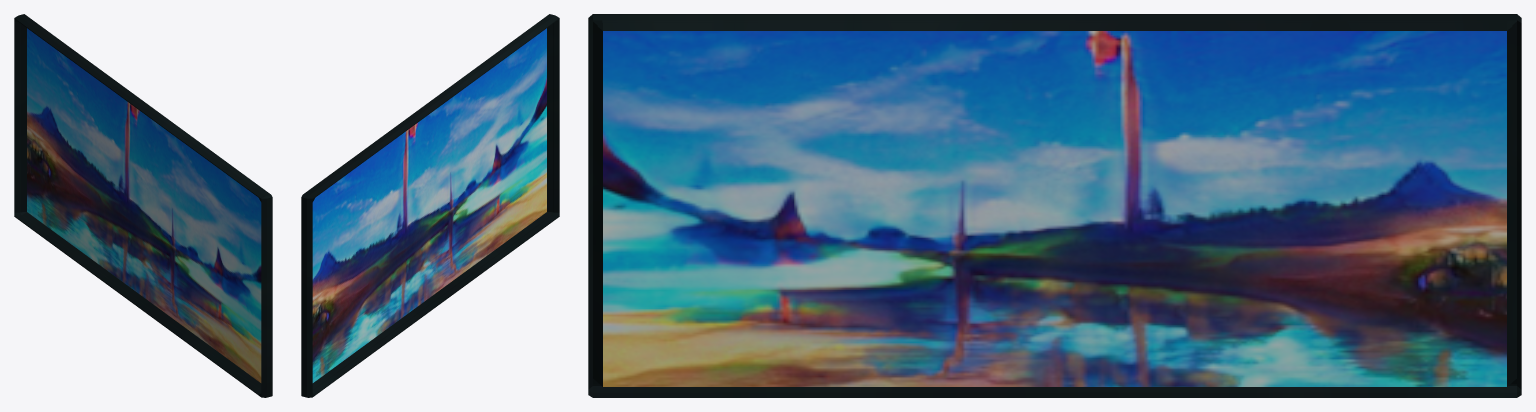
File: landscape-painting.gltf
3 views of the same model, side by side, from view 1: azimuth 30°, elevation 25°; view 2: azimuth 150°, elevation 25°; view 3: azimuth 270°, elevation 25° (orthographic). The views are drawn at different scales.
Parts seen in each view (by area): view 1: warhol picture.002; view 2: warhol picture.002; view 3: warhol picture.002.
Part boxes in pixels (<box>): warhol picture.002: <box>14,14,272,397</box>; warhol picture.002: <box>301,14,559,397</box>; warhol picture.002: <box>588,14,1521,397</box>.
Bounding box in the file's own units: 0.3032 × 5.81 × 13.02.
1 material, 1 textured.
